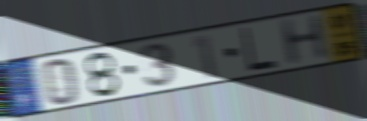0: (40, 56, 80, 107)
1: (191, 32, 219, 81)
3: (137, 42, 176, 89)
8: (84, 50, 121, 98)
H: (277, 12, 332, 69)
L: (240, 25, 279, 74)
